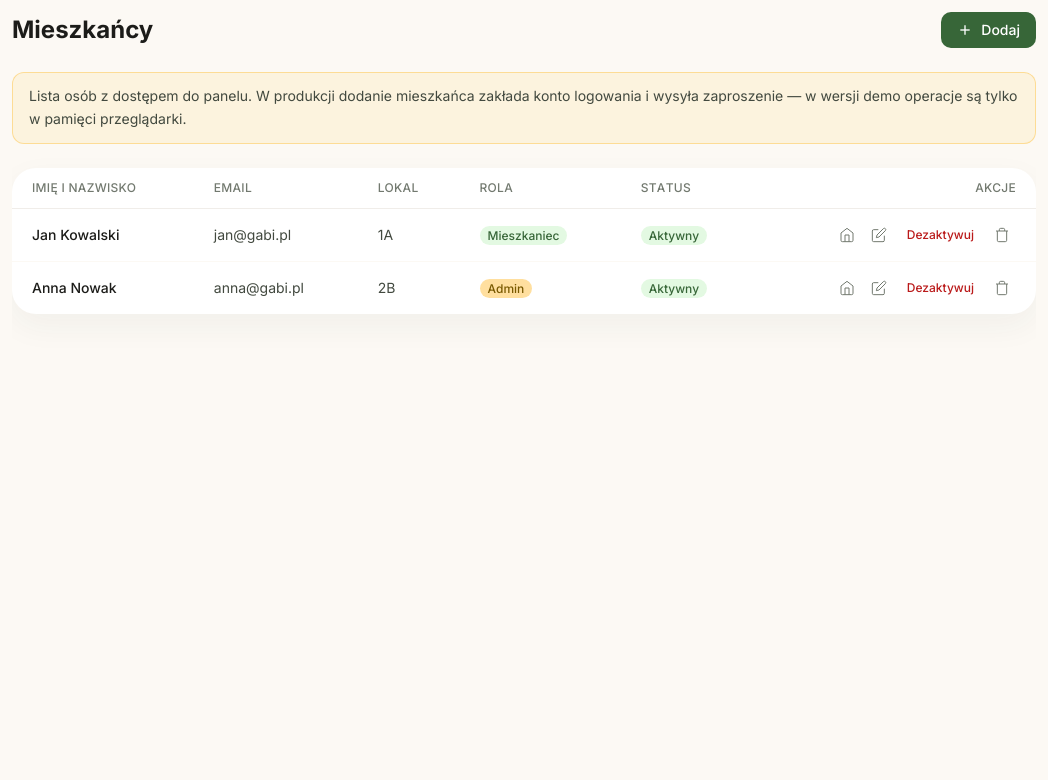
Scenario: ResidentsPage › zamyka formularz po kliknięciu Anuluj
Check: the text "Jan Kowalski" is shown, box 12,208 -> 194,261
What coordinates should you click on to do the following:
click the button "Dodaj"
I would click on:
 (989, 30)
Its box is 941,12 -> 1036,48.
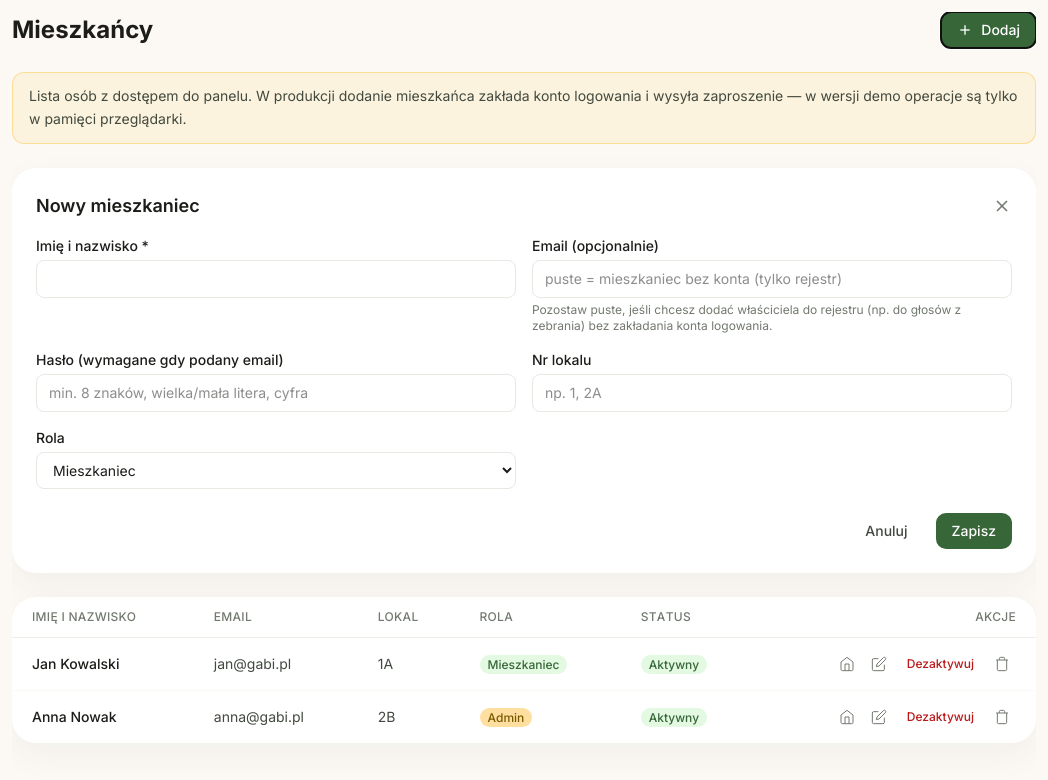
Check: the heading "Nowy mieszkaniec" is shown, box 36,192 -> 200,220
What coordinates should you click on to do the following:
click the button "Anuluj"
I would click on:
 (886, 530)
Its box is 849,512 -> 924,548.
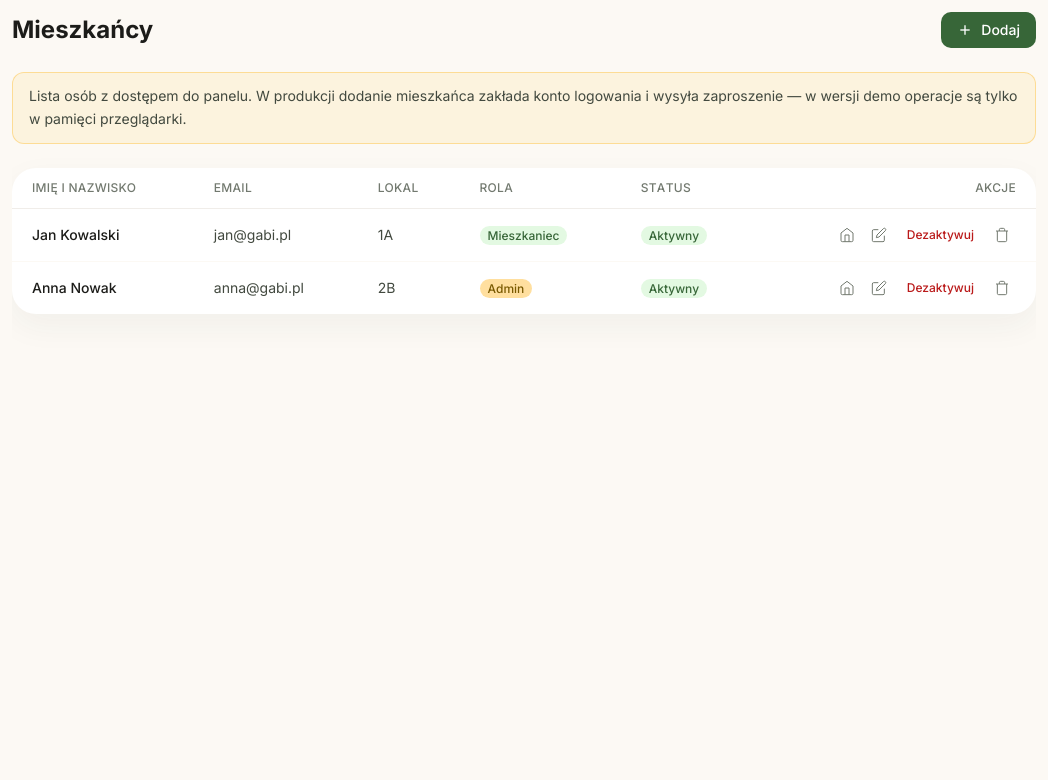
Check: the heading "Nowy mieszkaniec" is gone
